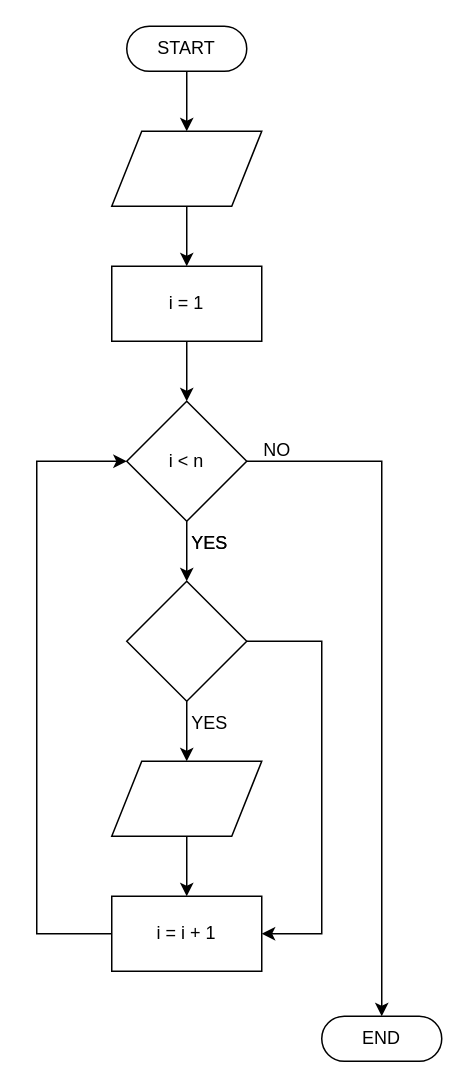
Image size: 468x1088. Some labels were removed from this diagram. Each missing label, with the centre of its shape:
"i % 2 == 0" goes at [186,640].
"PRINT i" goes at [186,798].
"READ n" goes at [186,168].
